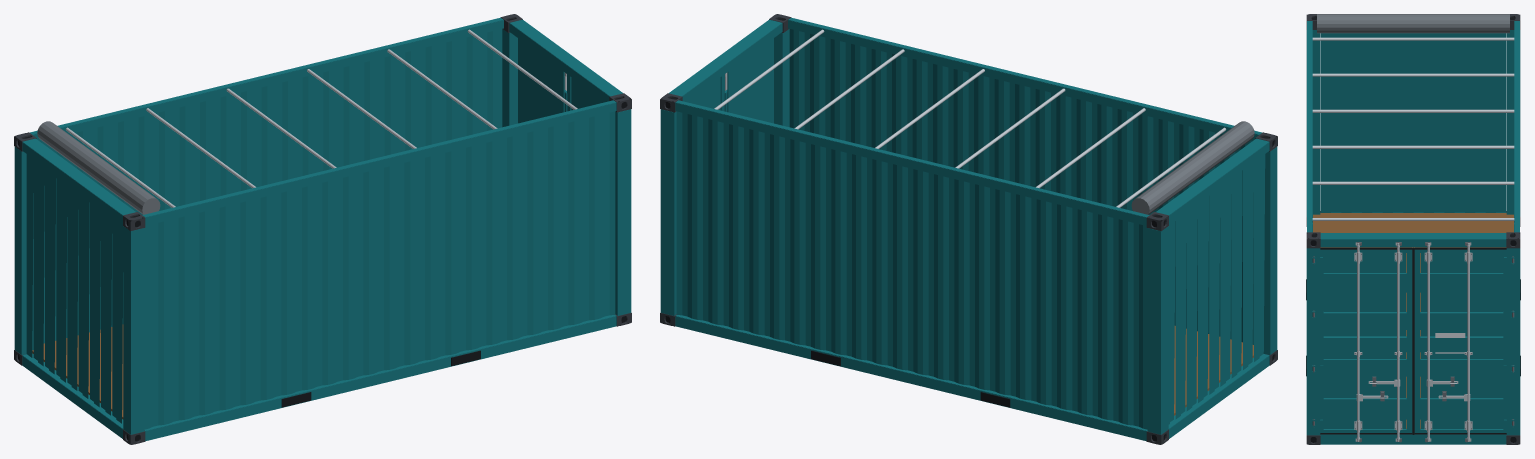
Rendered from iso_20ft_ot_22u1.obj.
The picture shows the model from 3 angles, left to right: view 1: azimuth 30°, elevation 25°; view 2: azimuth 150°, elevation 25°; view 3: azimuth 270°, elevation 25°; orthographic projection. The views are drawn at different scales.
Parts seen in each view (by area): view 1: 04_Corrugated_Corten_Panels, 02_Structural_Frame_Rails, 06_Corrugated_Rear_Doors, 10_OpenTop_Roof_Bows_And_Tarp, 11_Rolled_Tarpaulin, 01_ISO_Corner_Castings_Hollow3D, 03_Marine_Wood_Floor, 01_ISO_Corner_Castings_Hollow3D_Cavity; view 2: 04_Corrugated_Corten_Panels, 02_Structural_Frame_Rails, 06_Corrugated_Rear_Doors, 10_OpenTop_Roof_Bows_And_Tarp, 11_Rolled_Tarpaulin, 01_ISO_Corner_Castings_Hollow3D, 01_ISO_Corner_Castings_Hollow3D_Cavity, 03_Marine_Wood_Floor; view 3: 06_Corrugated_Rear_Doors, 04_Corrugated_Corten_Panels, 02_Structural_Frame_Rails, 10_OpenTop_Roof_Bows_And_Tarp, 07_Galvanized_Locking_Hardware, 11_Rolled_Tarpaulin, 03_Marine_Wood_Floor, 05_Door_Rubber_Gaskets_Beveled, 01_ISO_Corner_Castings_Hollow3D, 01_ISO_Corner_Castings_Hollow3D_Cavity.
Part boxes in pixels (x1=…): 04_Corrugated_Corten_Panels: x1=26, y1=29, x2=615, y2=429; 02_Structural_Frame_Rails: x1=14, y1=17, x2=631, y2=441; 06_Corrugated_Rear_Doors: x1=518, y1=38, x2=605, y2=123; 10_OpenTop_Roof_Bows_And_Tarp: x1=65, y1=29, x2=577, y2=207; 11_Rolled_Tarpaulin: x1=37, y1=121, x2=160, y2=214; 01_ISO_Corner_Castings_Hollow3D: x1=14, y1=14, x2=631, y2=444; 03_Marine_Wood_Floor: x1=32, y1=324, x2=123, y2=419; 01_ISO_Corner_Castings_Hollow3D_Cavity: x1=18, y1=18, x2=626, y2=441; 04_Corrugated_Corten_Panels: x1=676, y1=29, x2=1265, y2=429; 02_Structural_Frame_Rails: x1=660, y1=17, x2=1277, y2=441; 06_Corrugated_Rear_Doors: x1=686, y1=38, x2=773, y2=123; 10_OpenTop_Roof_Bows_And_Tarp: x1=714, y1=29, x2=1226, y2=207; 11_Rolled_Tarpaulin: x1=1131, y1=121, x2=1254, y2=214; 01_ISO_Corner_Castings_Hollow3D: x1=660, y1=14, x2=1277, y2=444; 01_ISO_Corner_Castings_Hollow3D_Cavity: x1=665, y1=18, x2=1273, y2=441; 03_Marine_Wood_Floor: x1=1174, y1=326, x2=1253, y2=415; 06_Corrugated_Rear_Doors: x1=1312, y1=249, x2=1514, y2=432; 04_Corrugated_Corten_Panels: x1=1320, y1=33, x2=1506, y2=212; 02_Structural_Frame_Rails: x1=1306, y1=21, x2=1520, y2=444; 10_OpenTop_Roof_Bows_And_Tarp: x1=1312, y1=37, x2=1514, y2=220; 07_Galvanized_Locking_Hardware: x1=1312, y1=242, x2=1514, y2=442; 11_Rolled_Tarpaulin: x1=1317, y1=14, x2=1509, y2=33; 03_Marine_Wood_Floor: x1=1313, y1=213, x2=1513, y2=428; 05_Door_Rubber_Gaskets_Beveled: x1=1320, y1=247, x2=1506, y2=434; 01_ISO_Corner_Castings_Hollow3D: x1=1306, y1=14, x2=1520, y2=444; 01_ISO_Corner_Castings_Hollow3D_Cavity: x1=1306, y1=17, x2=1520, y2=442.
Size of the model in its own units: 6.08 by 2.73 by 2.45.
